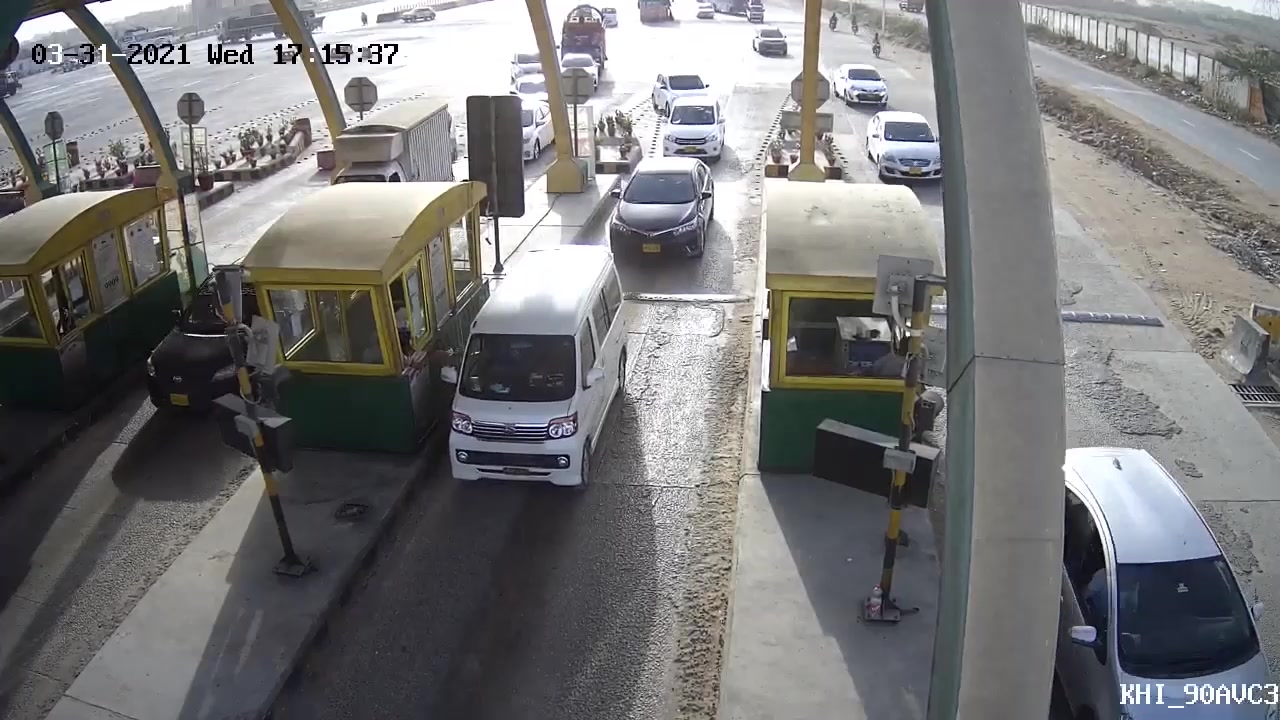F1: (430, 233, 636, 506), (595, 154, 725, 272)
